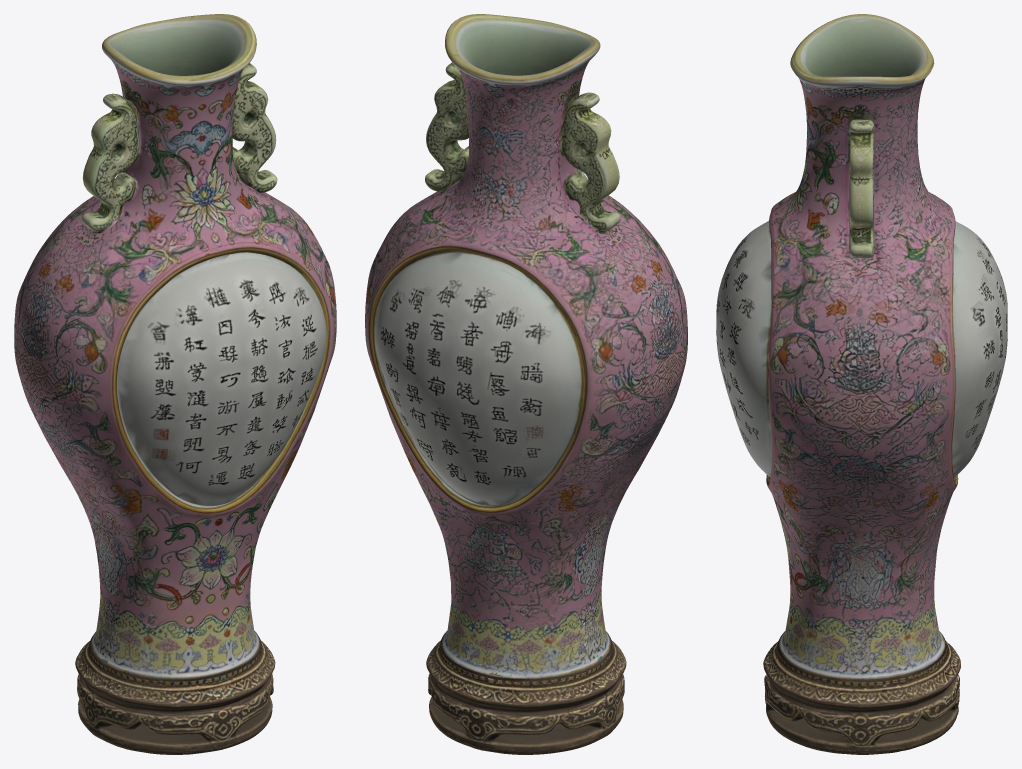
File: 洋彩粉紅地開光御製詩花卉轎瓶.glb
The picture shows the model from 3 angles, left to right: view 1: azimuth 30°, elevation 25°; view 2: azimuth 150°, elevation 25°; view 3: azimuth 270°, elevation 25°; orthographic projection.
Parts seen in each view (by area): view 1: tripo_node_1edc3b8c; view 2: tripo_node_1edc3b8c; view 3: tripo_node_1edc3b8c.
Boxes of the visible parts, x1,y1,x2,y2 form: tripo_node_1edc3b8c: [14, 14, 336, 754]; tripo_node_1edc3b8c: [365, 14, 687, 754]; tripo_node_1edc3b8c: [716, 14, 1007, 754].
Size of the model in its own units: 43.05 by 97.9 by 38.41.
Materials: 1 (1 with a texture image).
